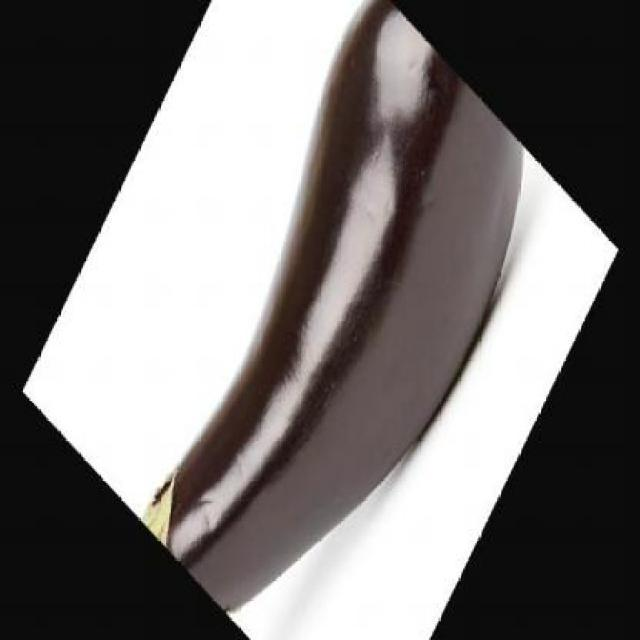eggplant: (134, 0, 532, 639)
